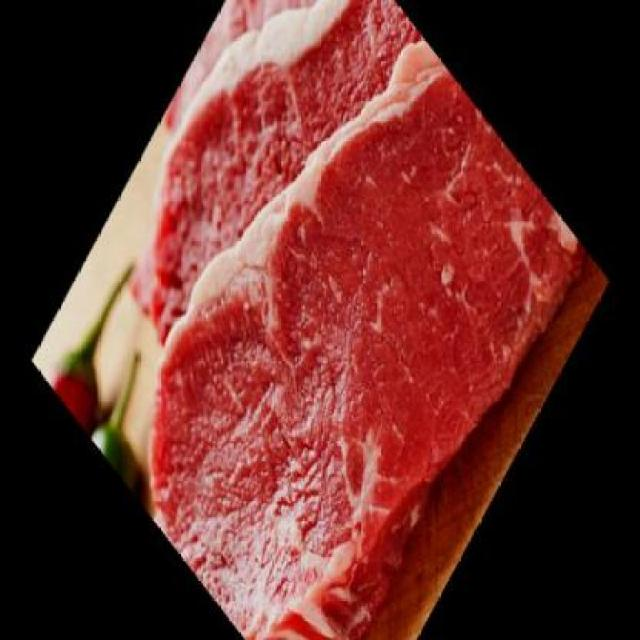beef: (144, 57, 590, 638)
